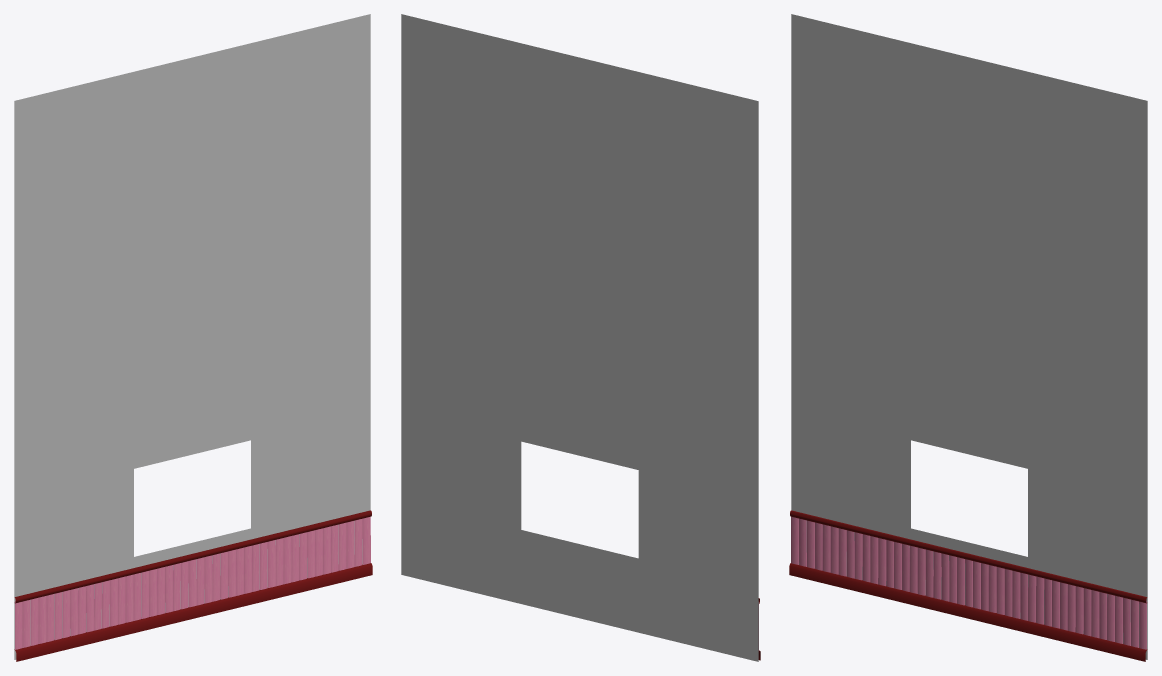
Rendered from wallWindow.fbx.
3 views of the same model, side by side, from view 1: azimuth 30°, elevation 25°; view 2: azimuth 150°, elevation 25°; view 3: azimuth 330°, elevation 25° (orthographic).
Visible parts, largest first — view 1: wallWindow; view 2: wallWindow; view 3: wallWindow.
Boxes of the visible parts, box(x1,y1,x2,y2) form: wallWindow: box(14, 14, 372, 661); wallWindow: box(401, 14, 760, 661); wallWindow: box(789, 14, 1147, 661).
Bounding box in the file's own units: 20 × 30 × 0.2101.
